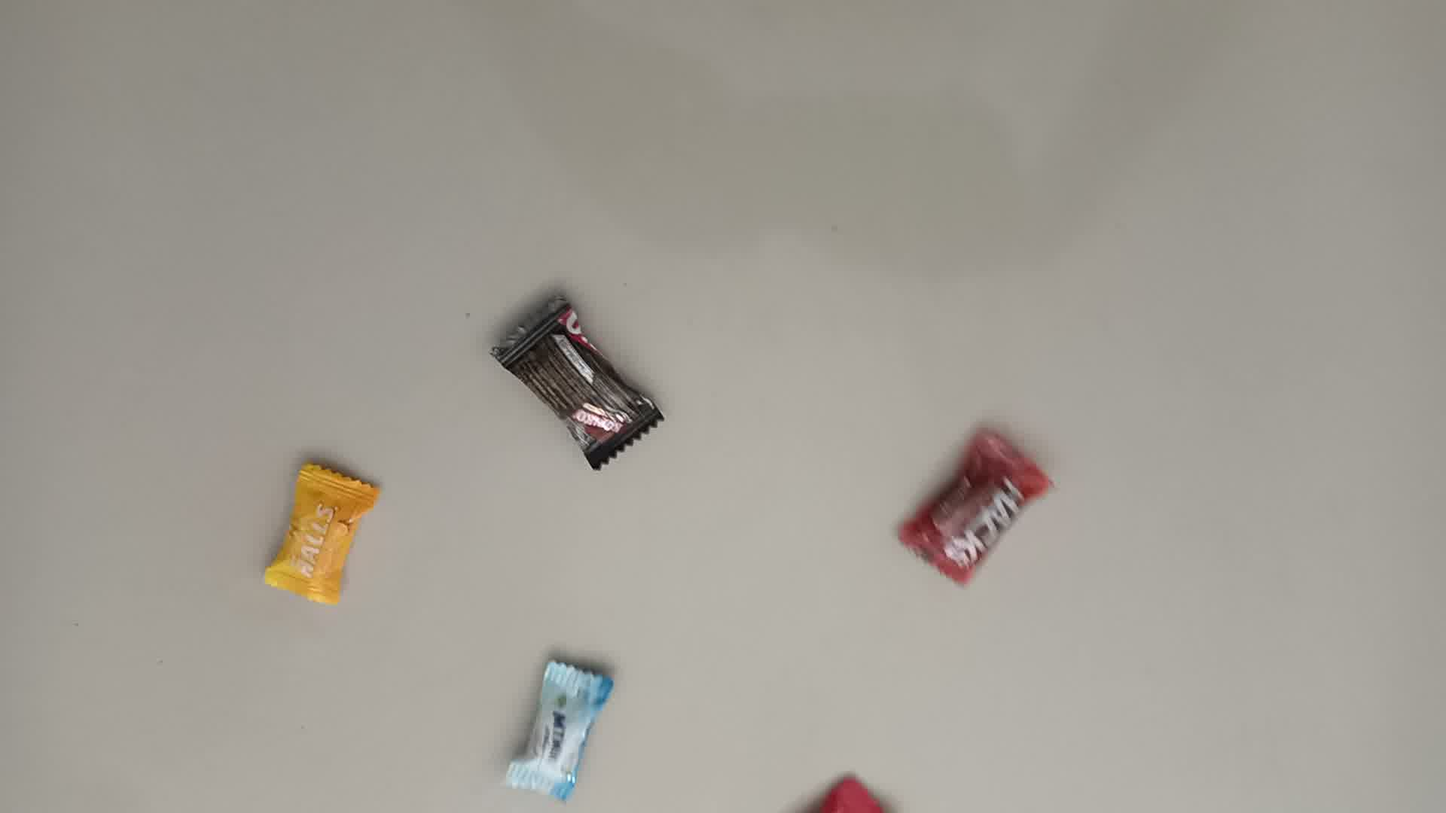HACK: (915, 423, 1063, 581)
HALLS: (274, 462, 378, 609)
KOPIKO: (499, 314, 661, 471)
MYM: (525, 657, 620, 807)
